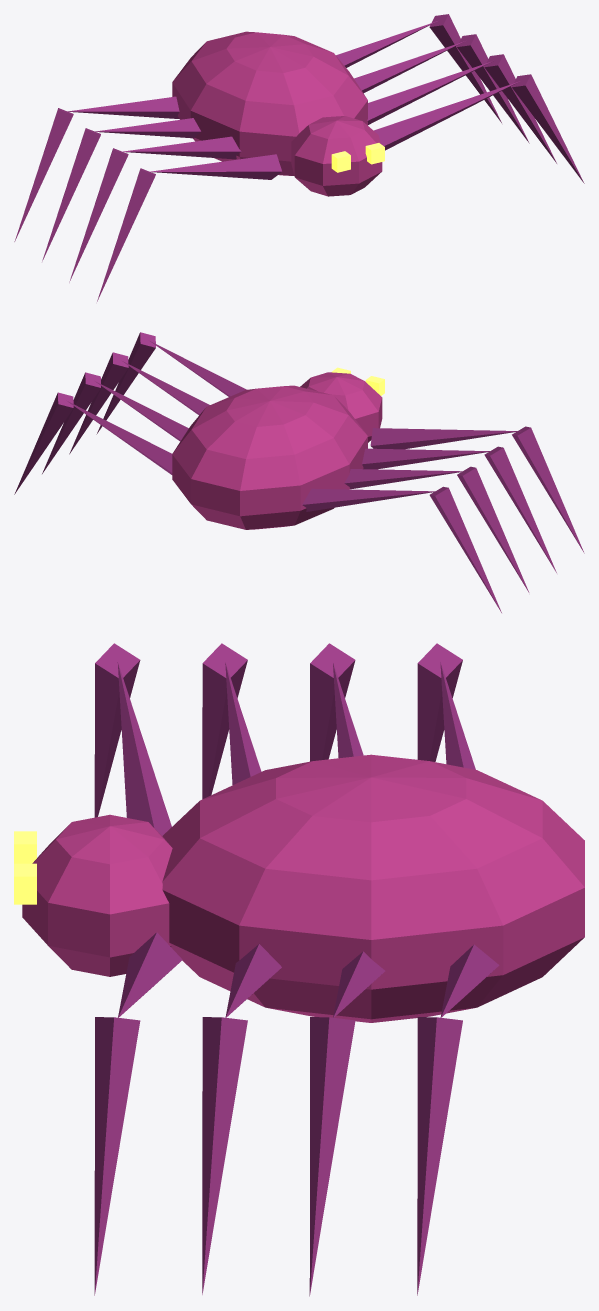
File: arpg.skitter.glb
3 renders of one model, top to bottom at view 1: azimuth 30°, elevation 25°; view 2: azimuth 150°, elevation 25°; view 3: azimuth 270°, elevation 25°, orthographic. The views are drawn at different scales.
Parts seen in each view (by area): view 1: skitter_legs, skitter_body, skitter_head; view 2: skitter_legs, skitter_body, skitter_head; view 3: skitter_body, skitter_legs, skitter_head.
Boxes of the visible parts, left/top/right/bottom form: skitter_legs: left=14, top=14, right=584, bottom=301; skitter_body: left=172, top=31, right=367, bottom=175; skitter_head: left=291, top=116, right=384, bottom=196; skitter_legs: left=14, top=332, right=584, bottom=612; skitter_body: left=172, top=385, right=367, bottom=529; skitter_head: left=300, top=367, right=384, bottom=442; skitter_body: left=162, top=754, right=584, bottom=1022; skitter_legs: left=94, top=643, right=499, bottom=1296; skitter_head: left=14, top=814, right=172, bottom=976.
Size of the model in its own units: 1.44 by 0.41 by 0.7432.
